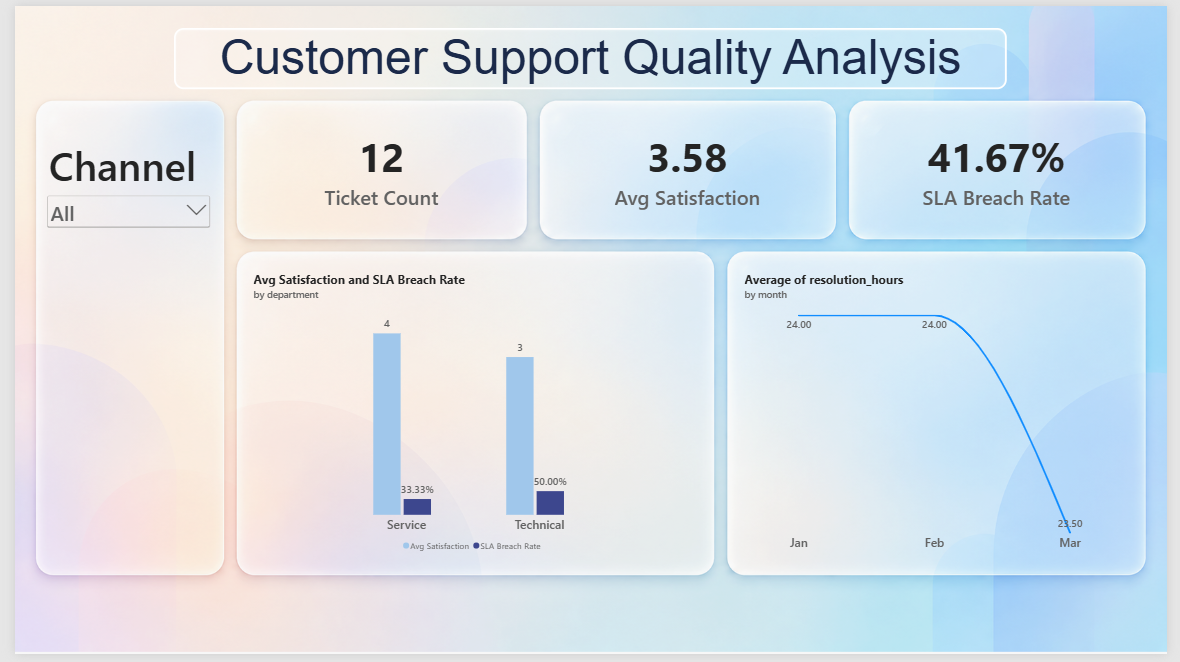

Layout of this report page (visuals, bound fields, positions):
{"tool":"powerbi","page":{"name":"Page 1","canvas":[1920,1080],"ordinal":0},"visuals":[{"type":"cardVisual","fields":{"Data":["Measure_.Ticket Count"]},"box":[381.7,176.7,458.3,193.3],"z":0},{"type":"cardVisual","fields":{"Data":["Measure_.Avg Satisfaction"]},"box":[891.7,176.7,458.3,193.3],"z":1},{"type":"cardVisual","fields":{"Data":["Measure_.SLA Breach Rate"]},"box":[1406.7,176.7,458.3,193.3],"z":2},{"type":"clusteredColumnChart","fields":{"Category":["teams.department"],"Y":["Measure_.Avg Satisfaction","Measure_.SLA Breach Rate"]},"box":[381.7,426.7,763.3,503.3],"z":3},{"type":"lineChart","fields":{"Category":["tickets.month"],"Y":["Avg(tickets.resolution_hours)"]},"box":[1200,426.7,665,503.3],"z":4},{"type":"slicer","fields":{"Values":["tickets.channel"]},"box":[48.3,220,281.7,236.7],"z":5},{"type":"textbox","box":[265,36.7,1388.3,101.7],"z":6}]}

Visuals, with their boxes in screenshot pixels (x1, y1, x2, y2), scaled from the page's 1920x1080 canvas onto the 1180x662 screenshot:
cardVisual - Measure_.Ticket Count: (left=235, top=108, right=516, bottom=227)
cardVisual - Measure_.Avg Satisfaction: (left=548, top=108, right=830, bottom=227)
cardVisual - Measure_.SLA Breach Rate: (left=865, top=108, right=1146, bottom=227)
clusteredColumnChart - teams.department x Measure_.Avg Satisfaction: (left=235, top=262, right=704, bottom=570)
lineChart - tickets.month x Avg(tickets.resolution_hours): (left=738, top=262, right=1146, bottom=570)
slicer - tickets.channel: (left=30, top=135, right=203, bottom=280)
textbox: (left=163, top=22, right=1016, bottom=85)
